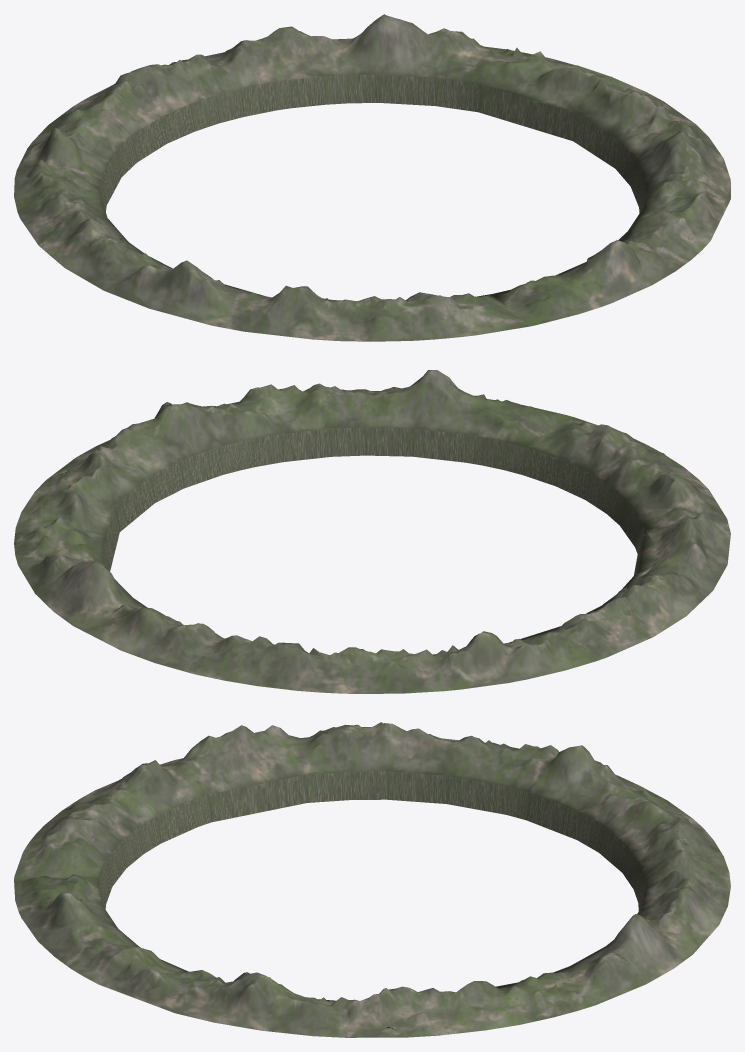
Rendered from SM_LoopForest_mountain.FBX.
The picture shows the model from 3 angles, top to bottom: view 1: azimuth 30°, elevation 25°; view 2: azimuth 150°, elevation 25°; view 3: azimuth 270°, elevation 25°; orthographic projection.
Visible parts, largest first — view 1: TerrainMesh; view 2: TerrainMesh; view 3: TerrainMesh.
Part boxes in pixels (<box>): TerrainMesh: <box>14,14,730,341</box>; TerrainMesh: <box>14,370,730,693</box>; TerrainMesh: <box>14,722,730,1037</box>.
Size of the model in its own units: 183799 by 19579 by 183957.
1 material, 1 textured.
